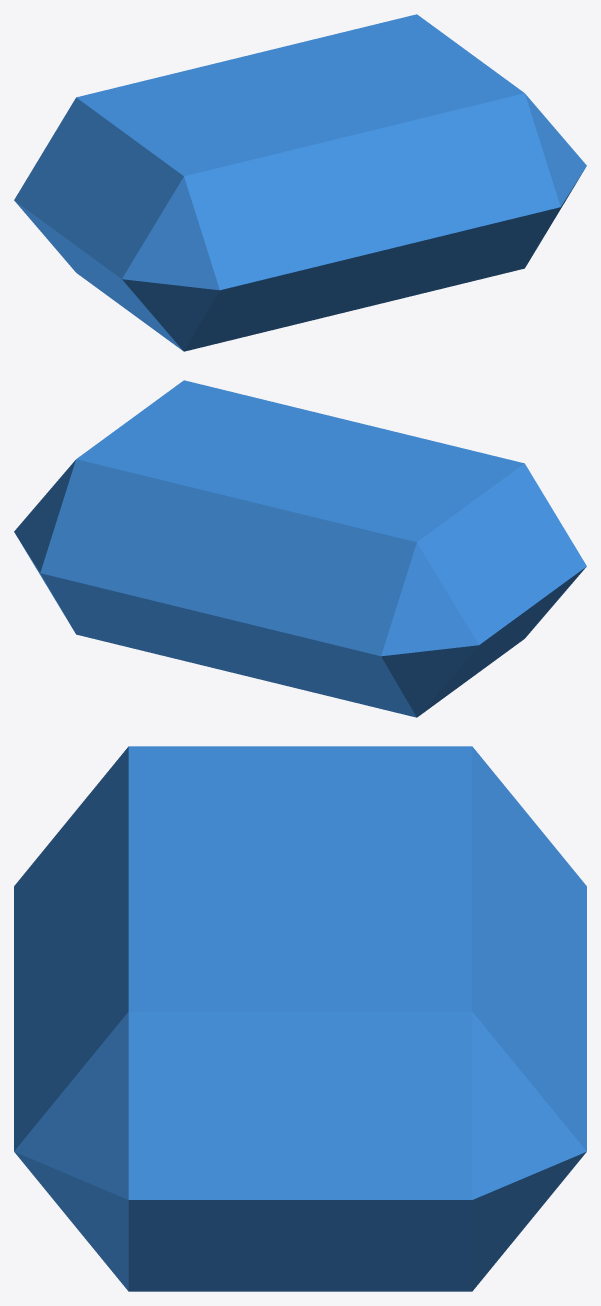
The model's file is Gem_3.fbx.
The picture shows the model from 3 angles, top to bottom: view 1: azimuth 30°, elevation 25°; view 2: azimuth 150°, elevation 25°; view 3: azimuth 270°, elevation 25°; orthographic projection. The views are drawn at different scales.
Parts seen in each view (by area): view 1: Gem_3; view 2: Gem_3; view 3: Gem_3.
Part boxes in pixels (x1=…): Gem_3: x1=14, y1=14, x2=586, y2=351; Gem_3: x1=14, y1=380, x2=586, y2=717; Gem_3: x1=14, y1=746, x2=586, y2=1291.
Size of the model in its own units: 8.33 by 3 by 5.57.
